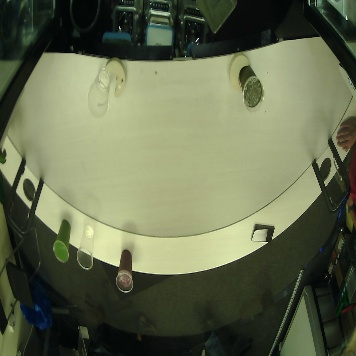empty_cup: (86, 67, 115, 123), (74, 220, 101, 271)
full_cup: (238, 62, 265, 113), (52, 215, 72, 266), (113, 245, 133, 296)
puck: (225, 52, 256, 95), (103, 57, 134, 100)
